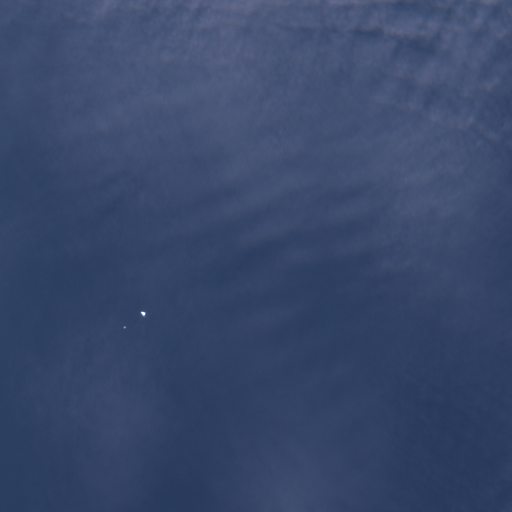Iceberg: (141, 311, 145, 315), (123, 326, 125, 328)
